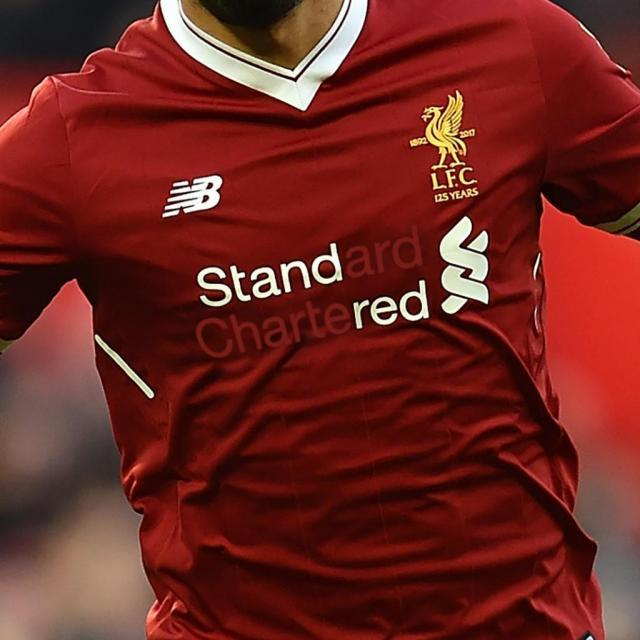Standard Chartered: (190, 219, 486, 356)
